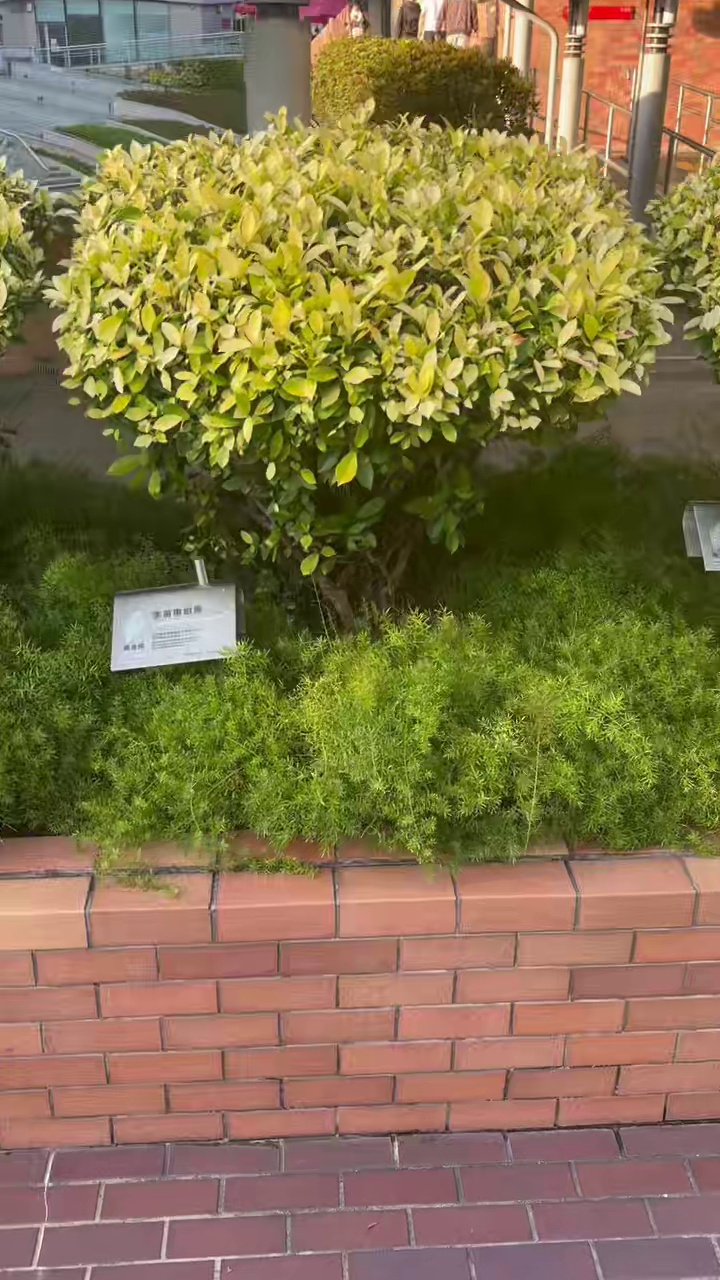Golden-leaves Fig: (48, 103, 670, 626)
